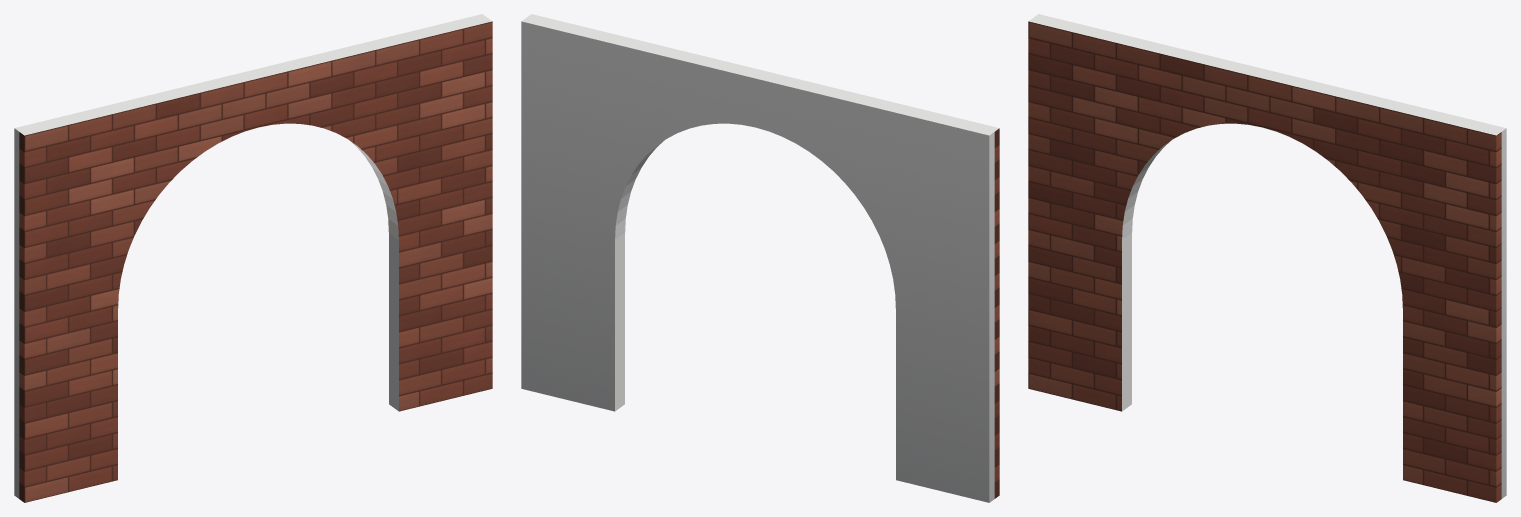
Rendered from arco_largo_4m.glb.
The picture shows the model from 3 angles, left to right: view 1: azimuth 30°, elevation 25°; view 2: azimuth 150°, elevation 25°; view 3: azimuth 330°, elevation 25°; orthographic projection.
Parts seen in each view (by area): view 1: arco_largo_4m; view 2: arco_largo_4m; view 3: arco_largo_4m.
Boxes of the visible parts, box(x1,y1,x2,y2) form: arco_largo_4m: box(14, 14, 492, 502); arco_largo_4m: box(521, 14, 999, 502); arco_largo_4m: box(1028, 14, 1506, 502).
Bounding box in the file's own units: 4 × 3 × 0.15.
3 materials, 2 textured.
